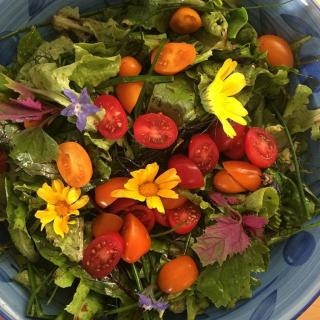tomato: (82, 230, 126, 280), (132, 112, 180, 150), (259, 23, 303, 64), (56, 141, 93, 187), (92, 94, 128, 139), (245, 126, 279, 166), (124, 215, 152, 263), (161, 257, 197, 293), (167, 153, 204, 188), (207, 121, 245, 153), (222, 161, 260, 192), (190, 135, 218, 177), (95, 178, 133, 208), (169, 201, 200, 233), (123, 206, 154, 232), (92, 212, 122, 238), (215, 172, 246, 192)
